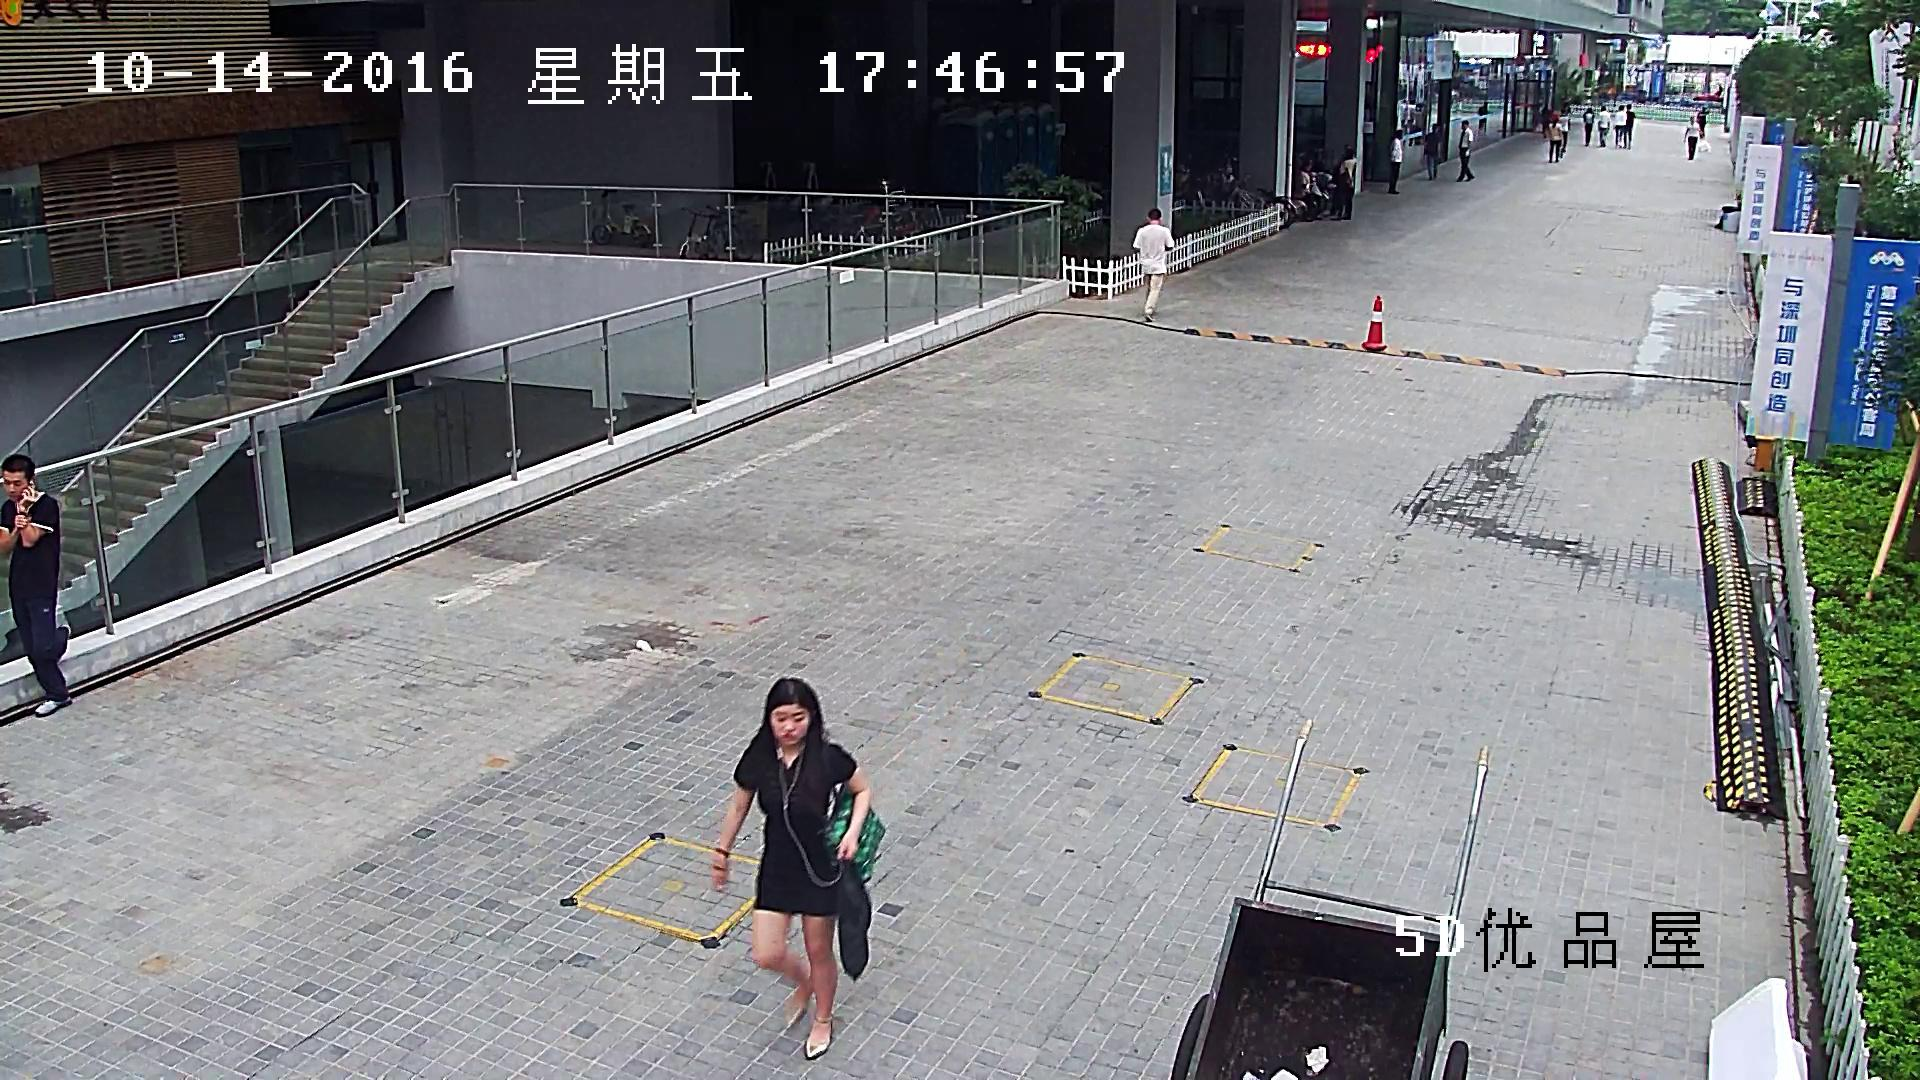person: (712, 677, 887, 1061), (0, 452, 74, 718), (1132, 208, 1174, 321), (1294, 159, 1322, 221), (1337, 148, 1358, 220), (1682, 116, 1711, 160), (1455, 120, 1474, 181), (1423, 123, 1443, 180), (1387, 130, 1402, 194), (1548, 116, 1562, 163), (1558, 109, 1570, 158), (1597, 106, 1610, 146), (1614, 105, 1627, 147), (1583, 107, 1594, 146), (1626, 103, 1635, 150), (1696, 105, 1706, 139), (1478, 101, 1489, 135)
